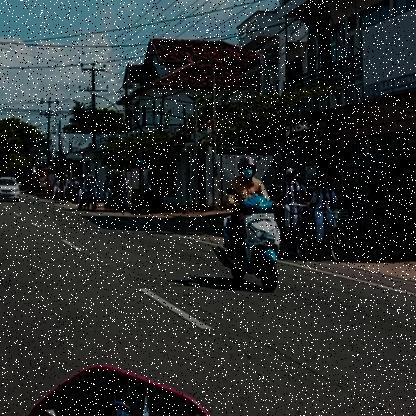motorcycle: (211, 197, 285, 294)
